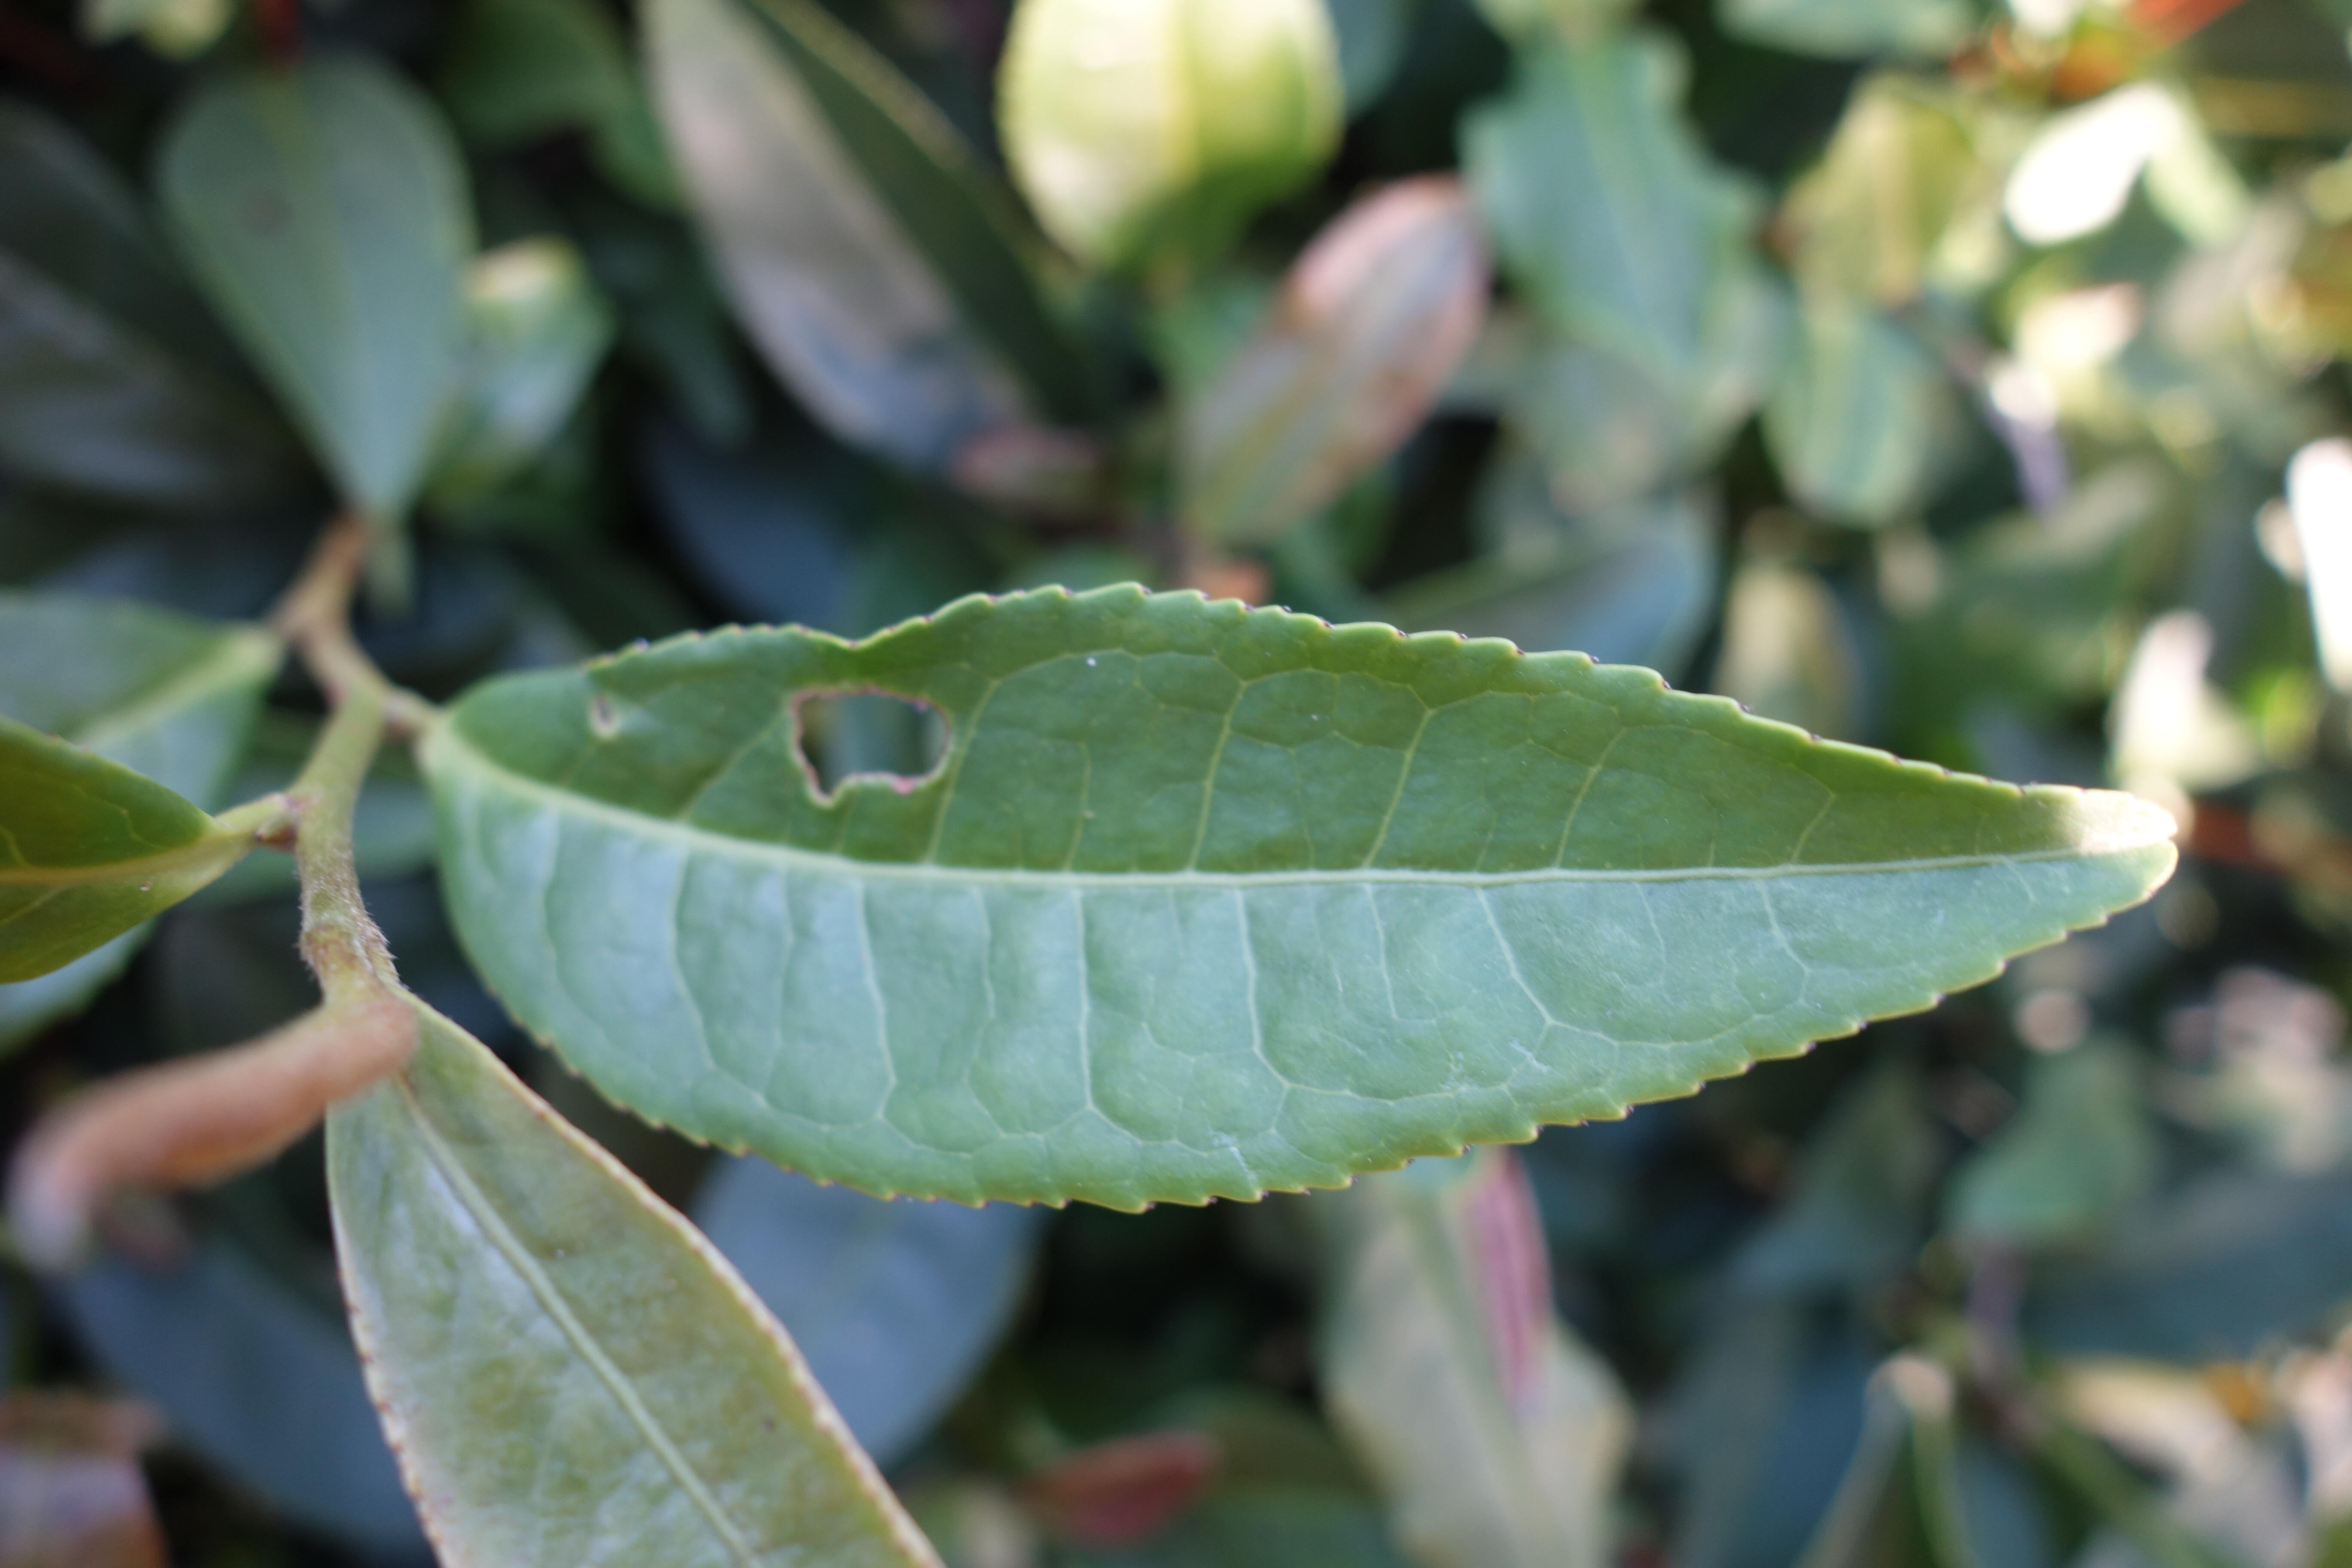chihuo_low: (418, 588, 2182, 1211)
tanju_low: (318, 1008, 950, 1559)
